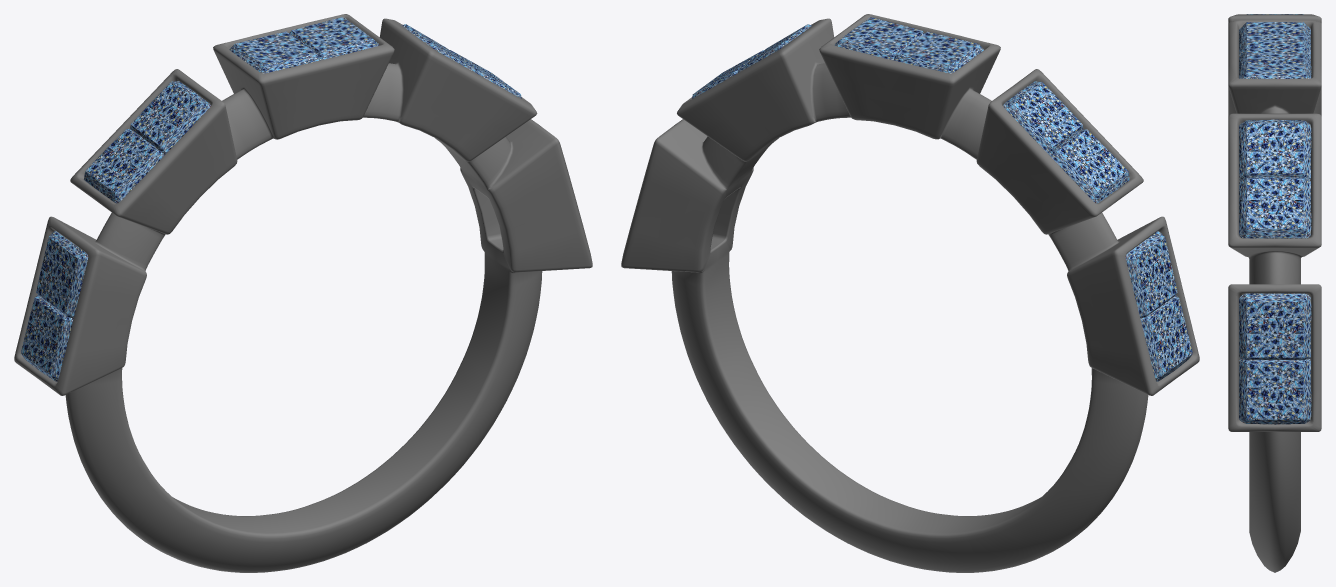
The model's file is ring_0.glb.
3 renders of one model, left to right at view 1: azimuth 30°, elevation 25°; view 2: azimuth 150°, elevation 25°; view 3: azimuth 270°, elevation 25°, orthographic. The views are drawn at different scales.
Parts seen in each view (by area): view 1: RING_0_Metal, Ring_0_stone2_princess_07, Ring_0_stone2_princess_03, Ring_0_stone2_princess_10, Ring_0_stone2_princess_09, Ring_0_stone2_princess_04, Ring_0_stone2_princess_02; view 2: RING_0_Metal, Ring_0_stone2_princess_07, Ring_0_stone2_princess_03, Ring_0_stone2_princess_10, Ring_0_stone2_princess_09, Ring_0_stone2_princess_04, Ring_0_stone2_princess_02; view 3: RING_0_Metal, Ring_0_stone2_princess_06, Ring_0_stone2_princess_08, Ring_0_stone2_princess_05, Ring_0_stone2_princess_01, Ring_0_stone2_princess_02, Ring_0_stone2_princess_04.
Boxes of the visible parts, bbox=[...] form: RING_0_Metal: bbox=[14, 14, 592, 572]; Ring_0_stone2_princess_07: bbox=[84, 129, 164, 203]; Ring_0_stone2_princess_03: bbox=[130, 81, 210, 154]; Ring_0_stone2_princess_10: bbox=[36, 230, 88, 318]; Ring_0_stone2_princess_09: bbox=[21, 295, 73, 381]; Ring_0_stone2_princess_04: bbox=[229, 31, 320, 73]; Ring_0_stone2_princess_02: bbox=[289, 17, 378, 59]; RING_0_Metal: bbox=[621, 14, 1199, 572]; Ring_0_stone2_princess_07: bbox=[1049, 129, 1129, 203]; Ring_0_stone2_princess_03: bbox=[1003, 81, 1083, 154]; Ring_0_stone2_princess_10: bbox=[1125, 231, 1177, 318]; Ring_0_stone2_princess_09: bbox=[1140, 295, 1192, 381]; Ring_0_stone2_princess_04: bbox=[893, 31, 983, 73]; Ring_0_stone2_princess_02: bbox=[834, 17, 924, 59]; RING_0_Metal: bbox=[1228, 14, 1321, 572]; Ring_0_stone2_princess_06: bbox=[1239, 293, 1311, 359]; Ring_0_stone2_princess_08: bbox=[1239, 359, 1311, 424]; Ring_0_stone2_princess_05: bbox=[1239, 177, 1311, 238]; Ring_0_stone2_princess_01: bbox=[1239, 119, 1311, 180]; Ring_0_stone2_princess_02: bbox=[1239, 49, 1311, 78]; Ring_0_stone2_princess_04: bbox=[1239, 22, 1310, 55].
Size of the model in its own units: 4.83 by 4.51 by 0.7627.
Materials: 2 (1 with a texture image).
